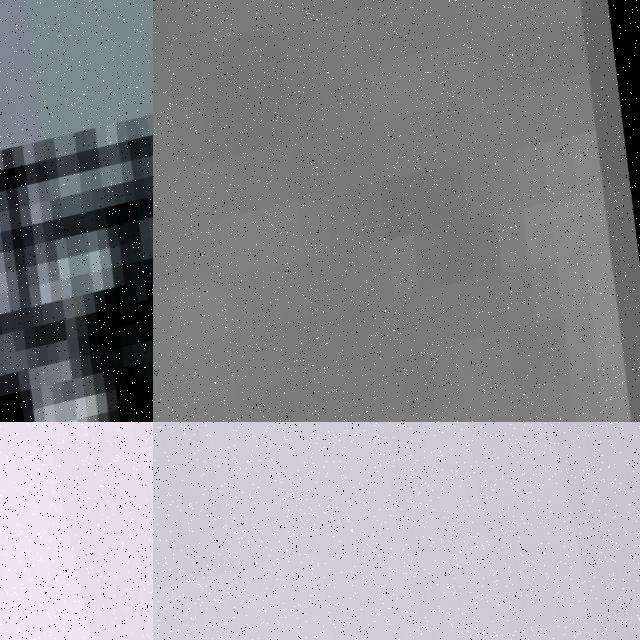0: (0, 0, 153, 422)
drone: (153, 0, 640, 422)
